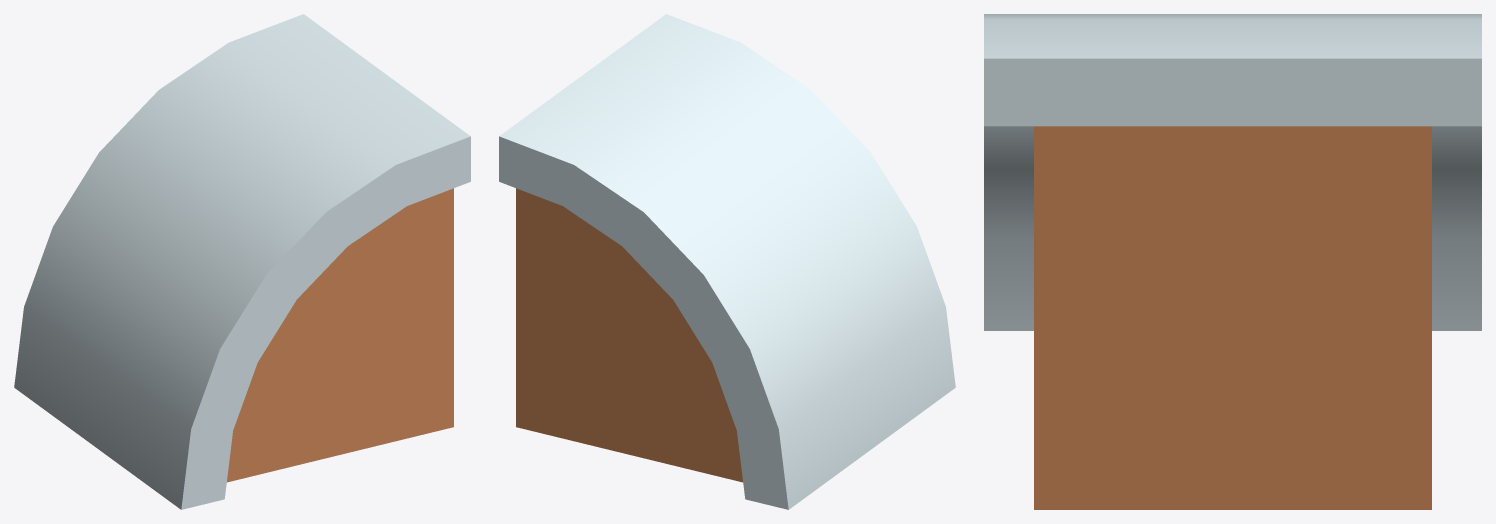
Rendered from blockSnowCurveHalf.fbx.
The picture shows the model from 3 angles, left to right: view 1: azimuth 30°, elevation 25°; view 2: azimuth 150°, elevation 25°; view 3: azimuth 270°, elevation 25°; orthographic projection. The views are drawn at different scales.
Visible parts, largest first — view 1: blockSnowCurveHalf; view 2: blockSnowCurveHalf; view 3: blockSnowCurveHalf.
Part boxes in pixels (x1,y1,x2,y2): blockSnowCurveHalf: [14, 14, 470, 509]; blockSnowCurveHalf: [499, 14, 955, 509]; blockSnowCurveHalf: [984, 14, 1481, 509].
Size of the model in its own units: 10 by 10 by 10.
